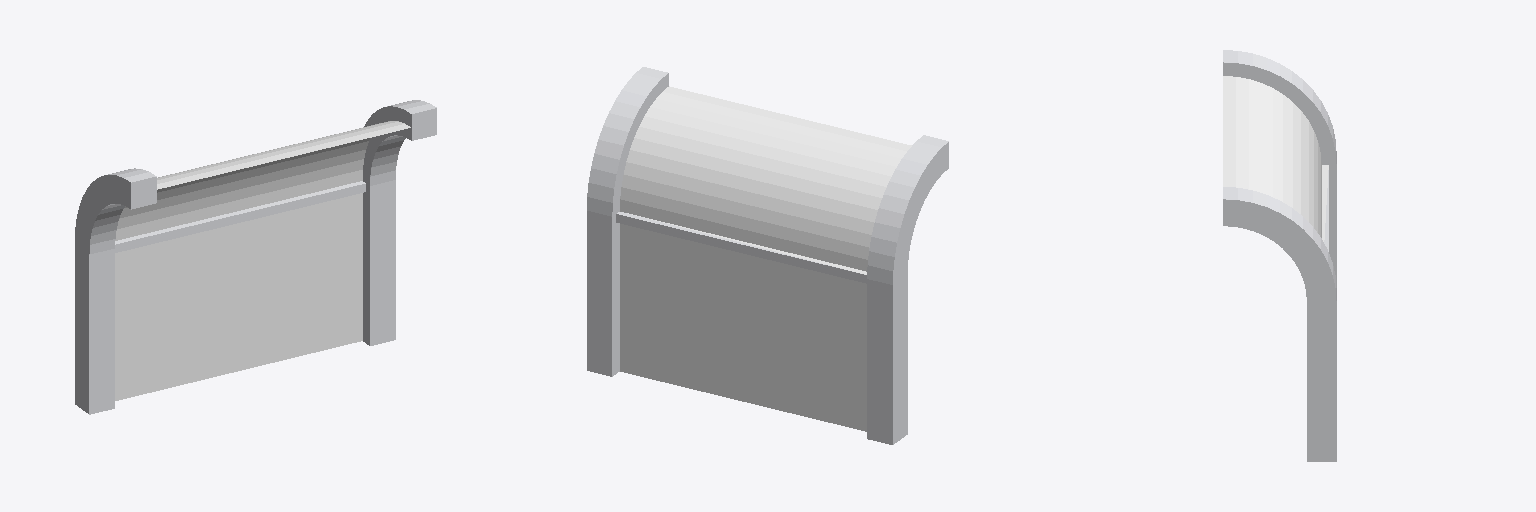
Rendered from fenceCurved.obj.
3 renders of one model, left to right at view 1: azimuth 30°, elevation 25°; view 2: azimuth 150°, elevation 25°; view 3: azimuth 270°, elevation 25°, orthographic.
Visible parts, largest first — view 1: fenceCurved; view 2: fenceCurved; view 3: fenceCurved.
Part boxes in pixels (left/top/right/bottom): fenceCurved: left=75, top=100, right=436, bottom=414; fenceCurved: left=587, top=67, right=948, bottom=444; fenceCurved: left=1223, top=50, right=1336, bottom=461.
Size of the model in its own units: 1 by 0.82 by 0.32.